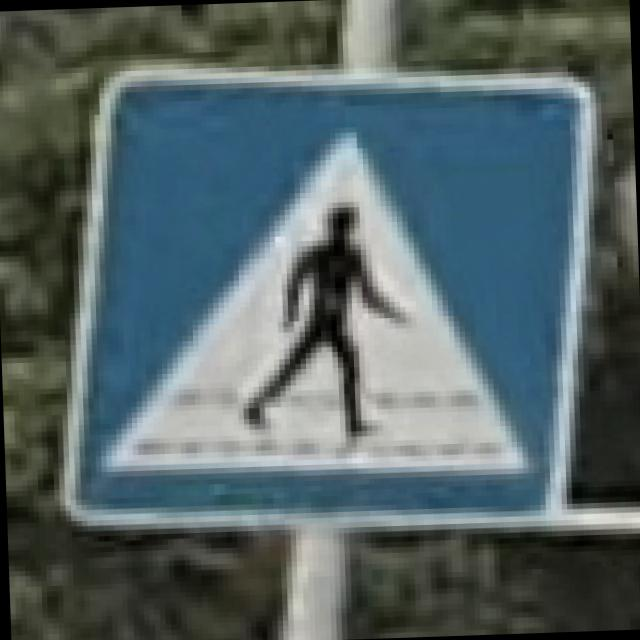zebracrossing_sign: (36, 44, 607, 543)
